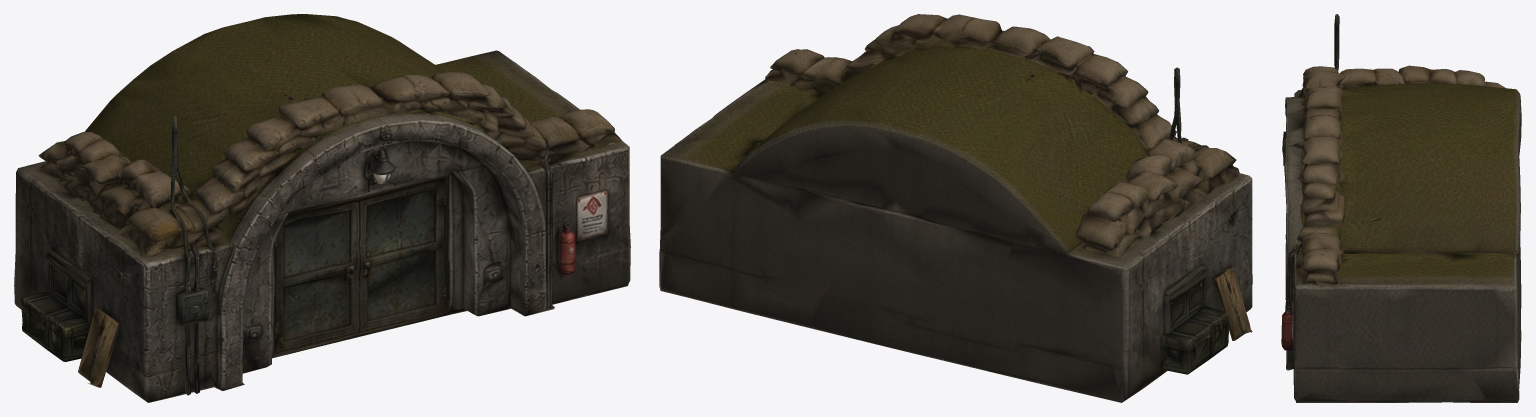
File: bunker_hangar.glb
3 renders of one model, left to right at view 1: azimuth 30°, elevation 25°; view 2: azimuth 150°, elevation 25°; view 3: azimuth 270°, elevation 25°, orthographic. The views are drawn at different scales.
Parts seen in each view (by area): view 1: bunker_hangar; view 2: bunker_hangar; view 3: bunker_hangar.
Part boxes in pixels (x1,y1,x2,y2): bunker_hangar: (14,14,630,402); bunker_hangar: (659,14,1252,402); bunker_hangar: (1281,14,1521,402).
Size of the model in its own units: 1.9 by 0.9035 by 0.9186.
1 material, 1 textured.
